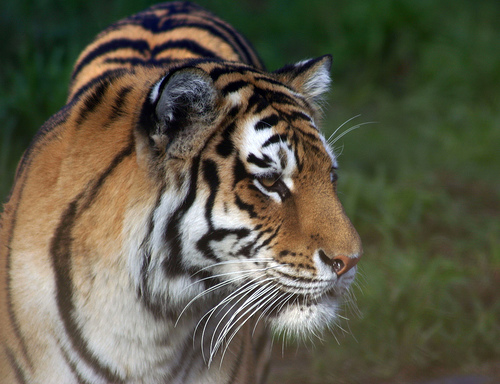Tigre: (20, 16, 371, 375)
